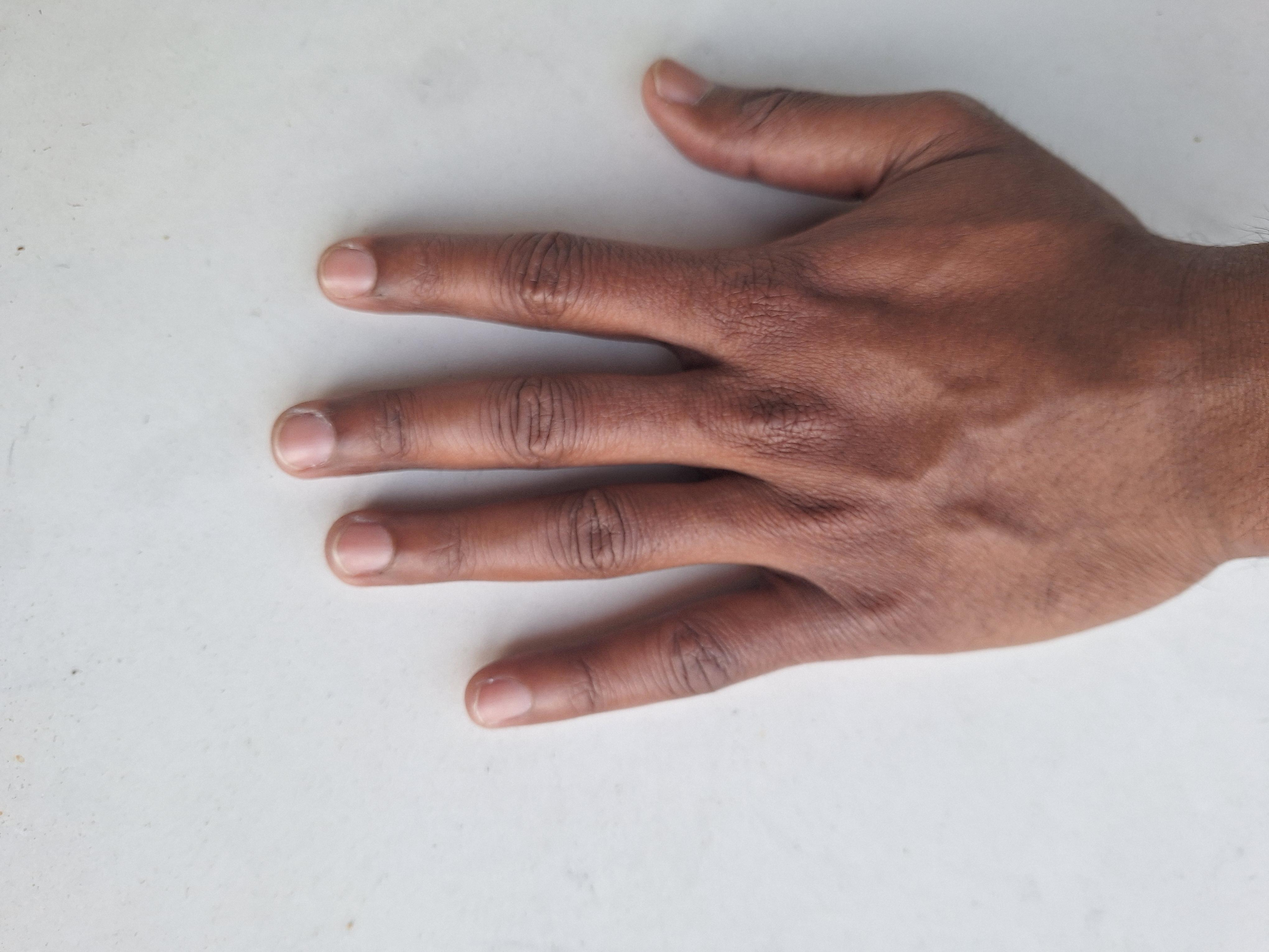Fingernail: (276, 413, 334, 471), (333, 523, 393, 577), (320, 248, 377, 298), (474, 678, 532, 725), (655, 59, 712, 104)
